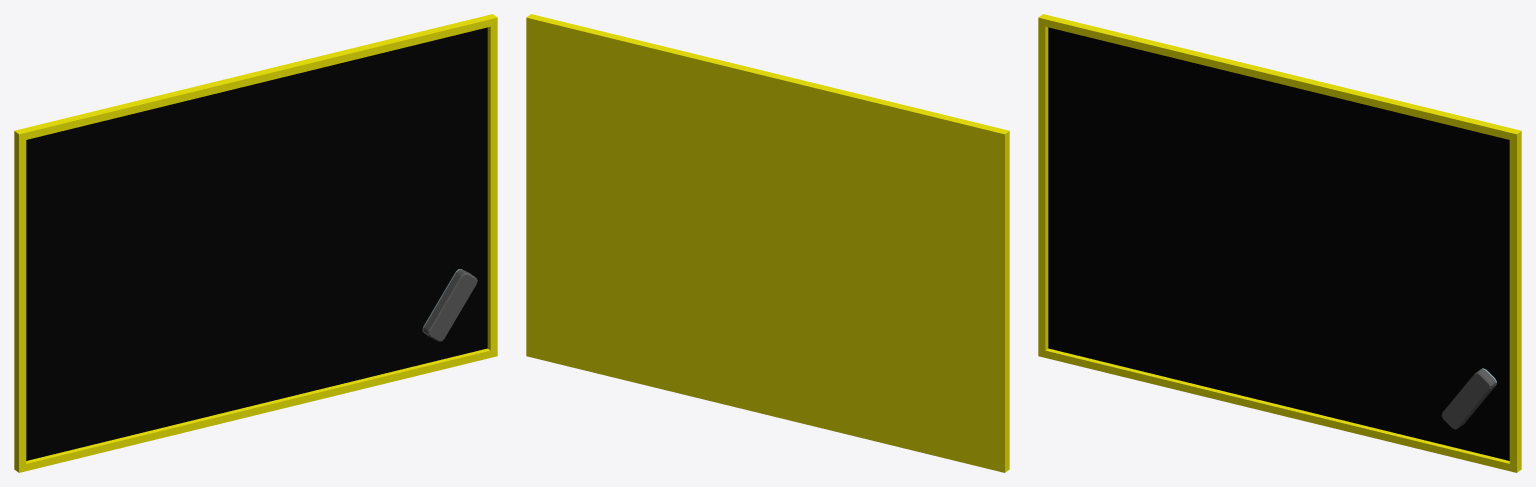
3 views of the same model, side by side, from view 1: azimuth 30°, elevation 25°; view 2: azimuth 150°, elevation 25°; view 3: azimuth 330°, elevation 25° (orthographic).
Visible parts, largest first — view 1: White_board_Cube.045, White_board.001_Cube.026; view 2: White_board_Cube.045; view 3: White_board_Cube.045, White_board.001_Cube.026.
Boxes of the visible parts, bbox=[...] form: White_board_Cube.045: bbox=[14, 14, 497, 472]; White_board.001_Cube.026: bbox=[422, 269, 477, 341]; White_board_Cube.045: bbox=[526, 14, 1009, 472]; White_board_Cube.045: bbox=[1038, 14, 1521, 472]; White_board.001_Cube.026: bbox=[1441, 368, 1496, 429].
Size of the model in its own units: 9.96 by 6.73 by 0.2969.
